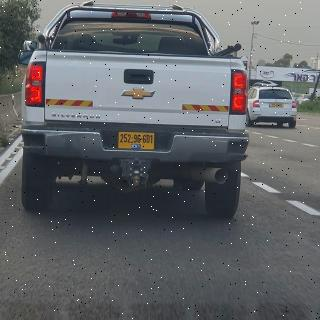LicensePlate: (119, 132, 155, 144)
